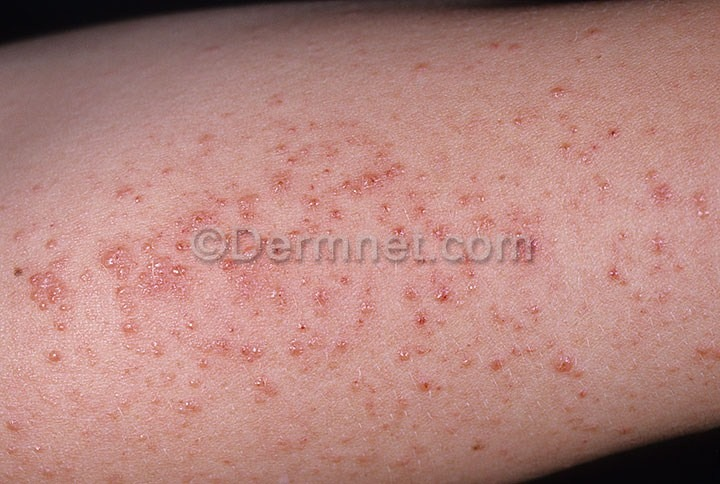Melasma: (464, 0, 680, 70)
